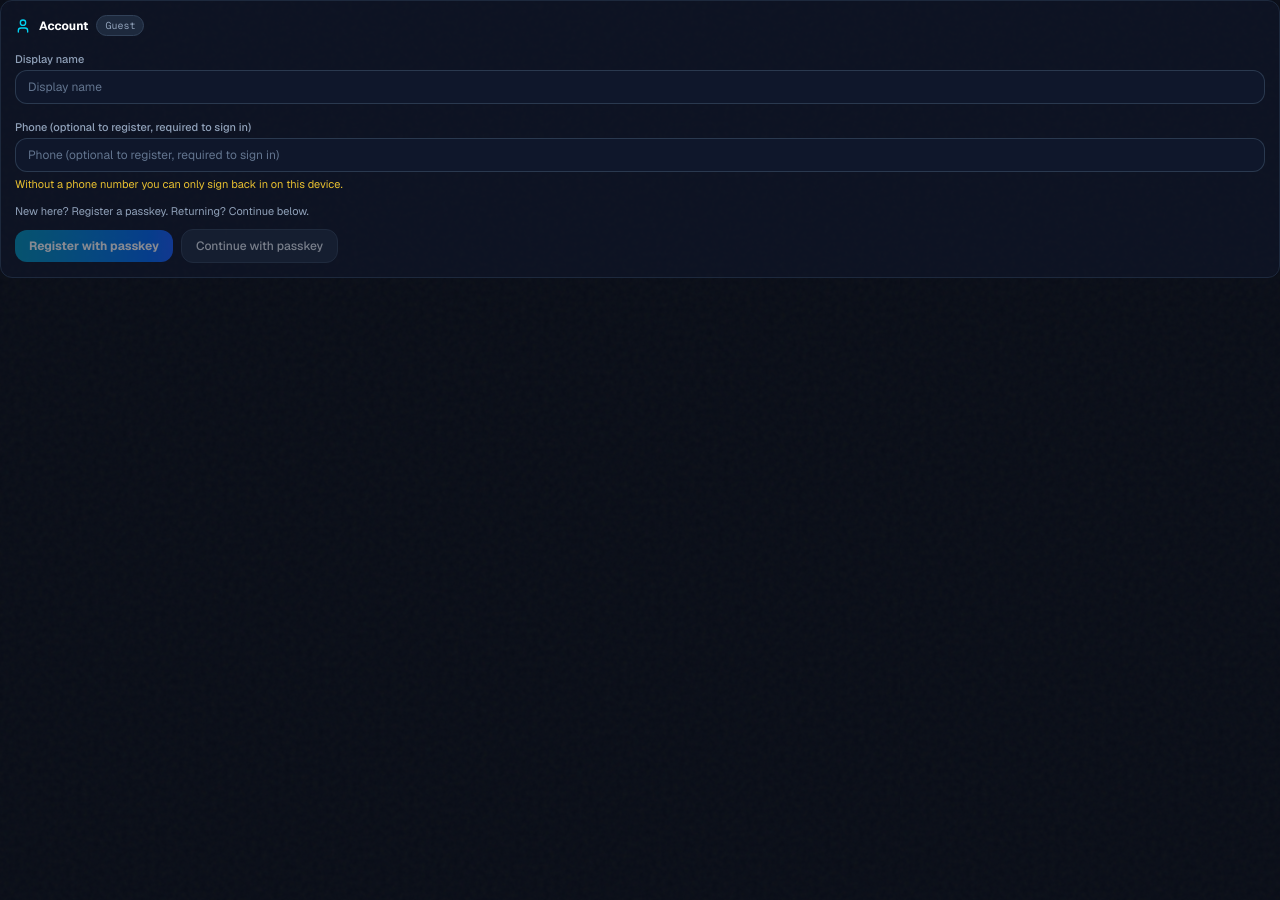
Test: account error mapping › unknown phone suggests registration and keeps the typed entries
The image size is (1280, 900).
Step 1. Type "Uji Baru" into the field labelled "Display name" → {"x": 640, "y": 87}, box left=15, top=70, right=1265, bottom=104
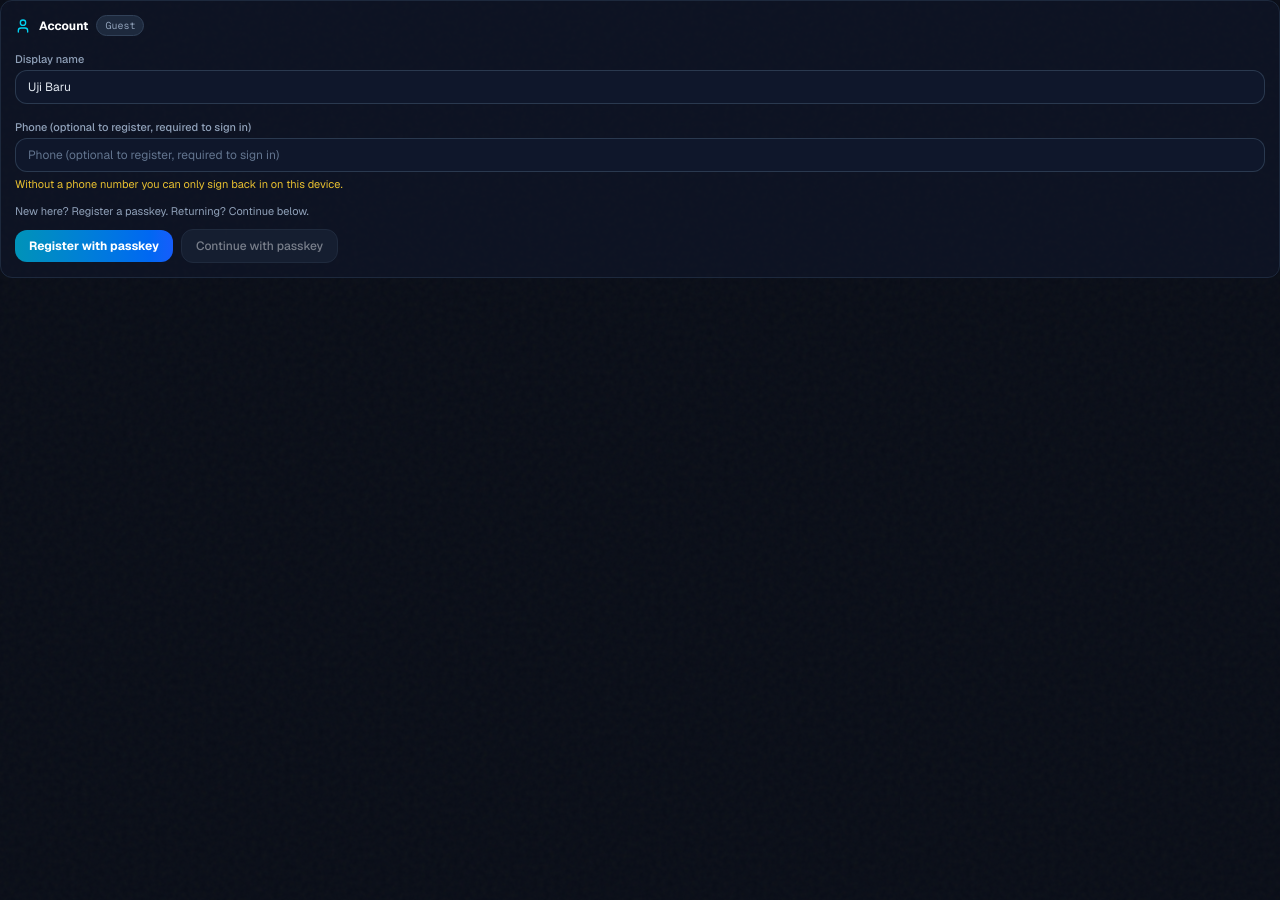
Step 2. Type "081999000111" into the field labelled "Phone (optional to register, required to sign in)" → {"x": 640, "y": 155}, box left=15, top=138, right=1265, bottom=172
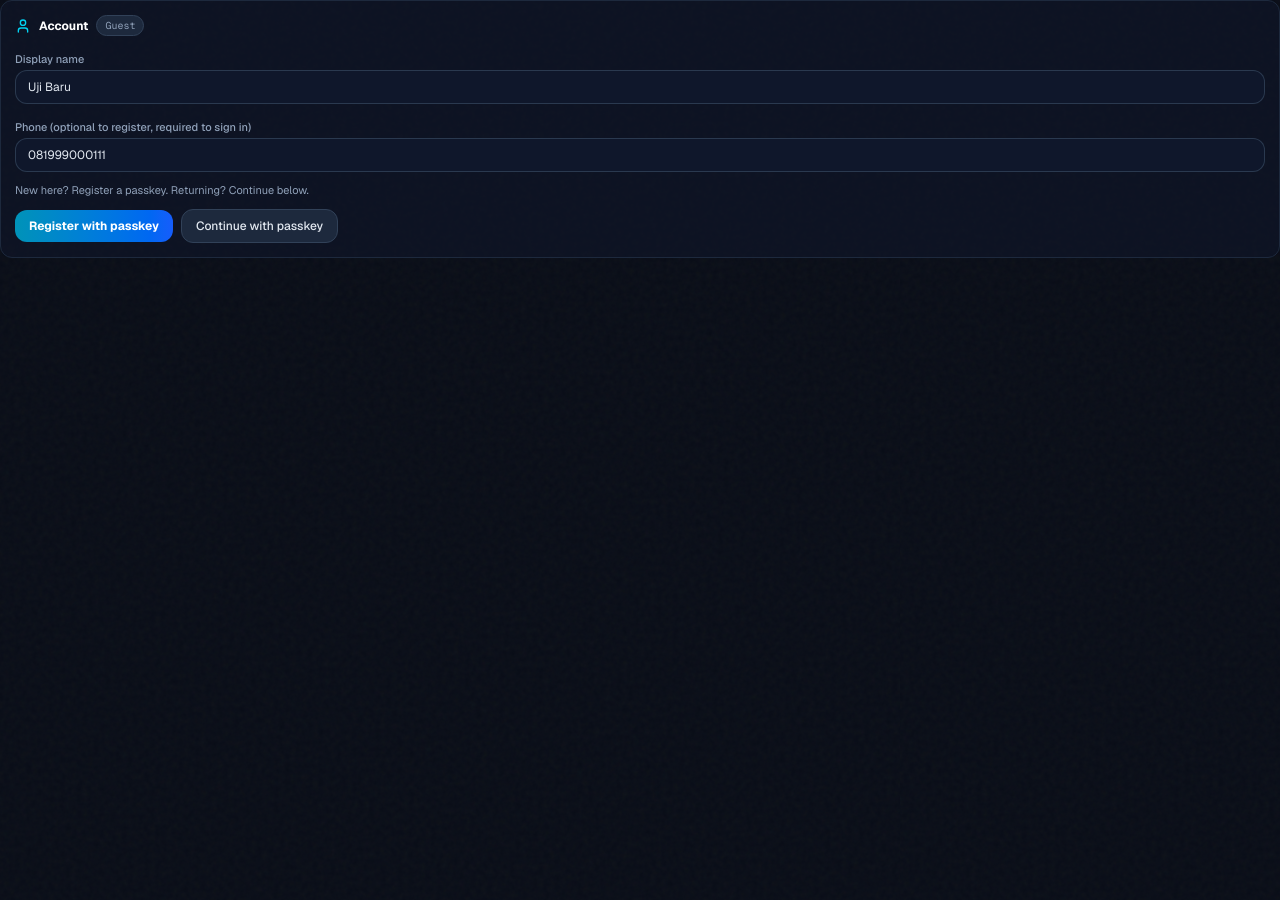
Step 3. Click the button "Continue with passkey" → {"x": 260, "y": 226}, box left=181, top=208, right=338, bottom=242
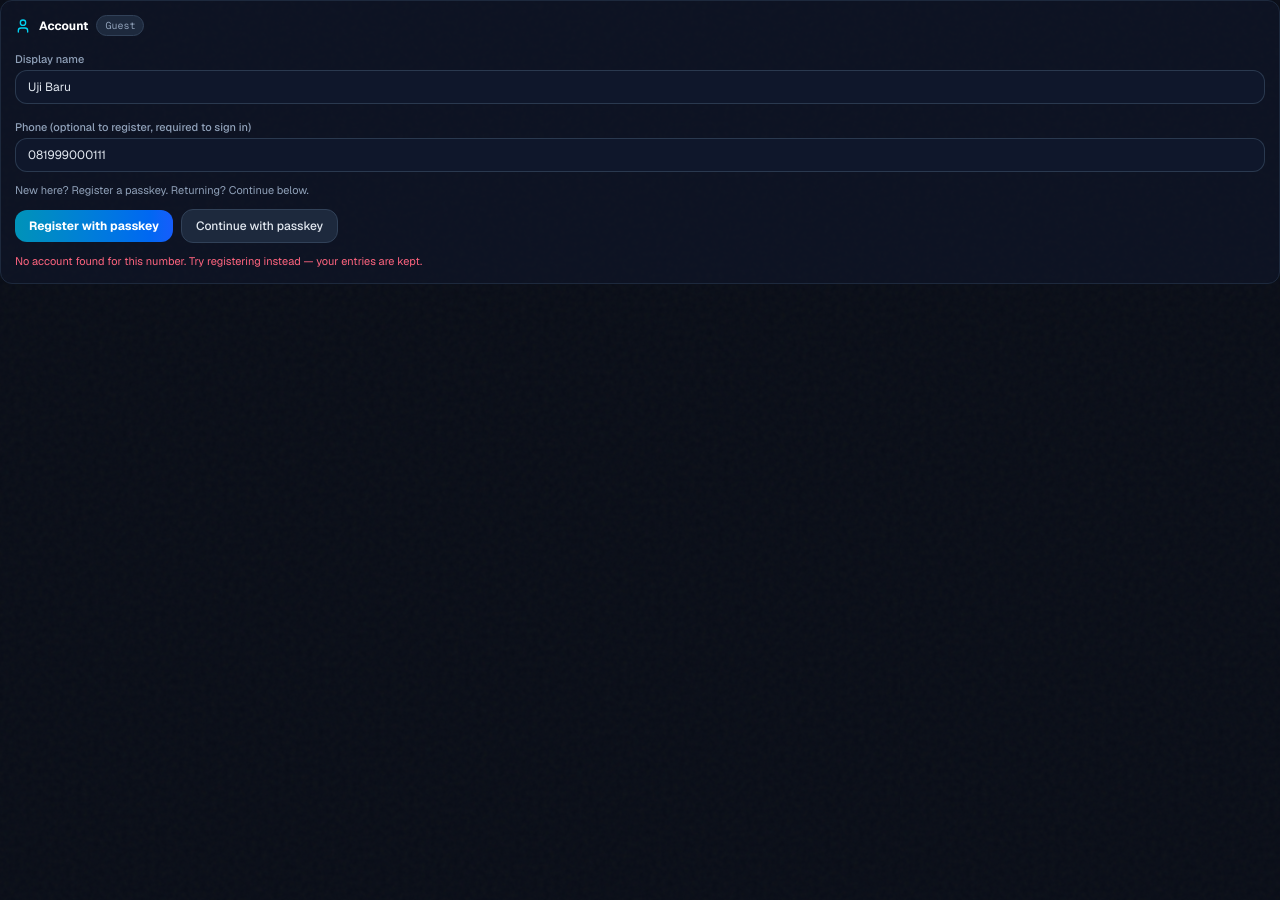
Check: the text "No account found" is shown, box left=15, top=254, right=422, bottom=268
